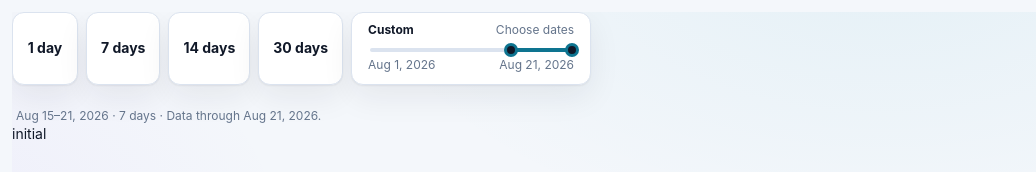
Test: V2 route controller clears parent output before a returned temporal selection replaces it
The image size is (1036, 172).
Click the radio button labelled "7 days" at (123, 48), box [86,12,160,85]
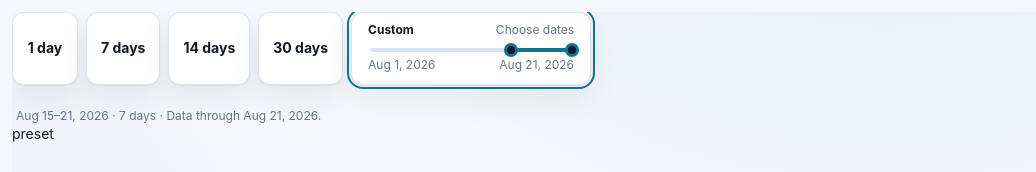
Result: the text named "parent" reads "preset" at [12,125,54,142]
